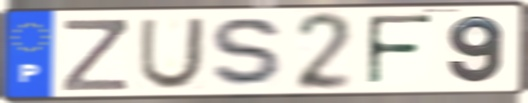2: (292, 8, 355, 96)
9: (443, 12, 507, 87)
F: (364, 13, 436, 89)
S: (207, 15, 289, 91)
U: (135, 15, 209, 91)
Z: (60, 17, 131, 93)
